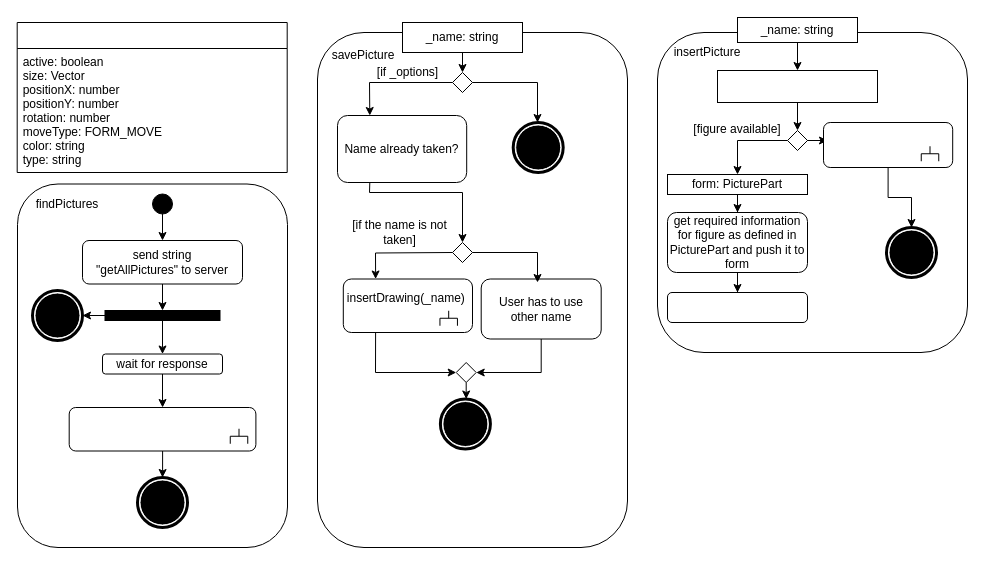
Some shapes in this 986 by 565 pixel diagram are drawn without their labels. Here are the shapes that lost their labels. From the top down, the box of each, then its label:
(16, 22, 287, 172): PicturePart
(716, 70, 878, 102): information: PicturePart[] = []
(822, 122, 953, 168): sendData(information, _name)
(666, 292, 808, 322): information.push(form)
(68, 406, 256, 451): createDatalist and commit response
